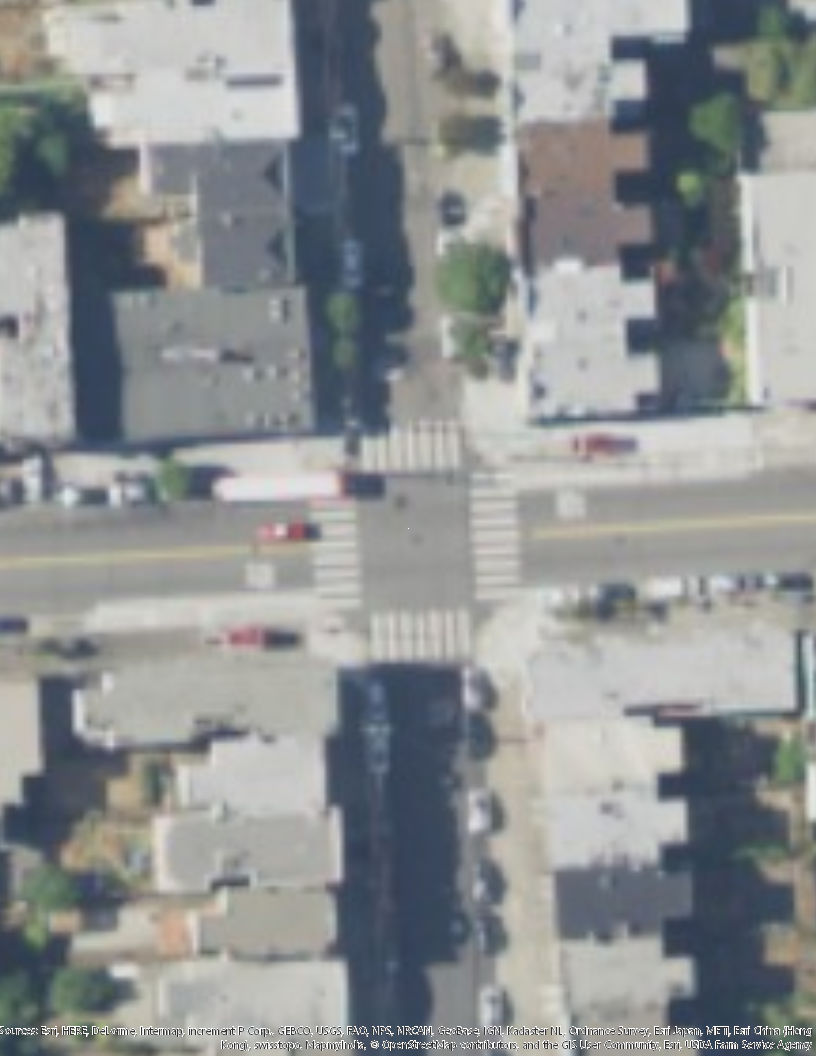zebracross: (313, 479, 359, 618), (469, 476, 520, 601), (361, 420, 464, 475), (371, 610, 476, 662)
